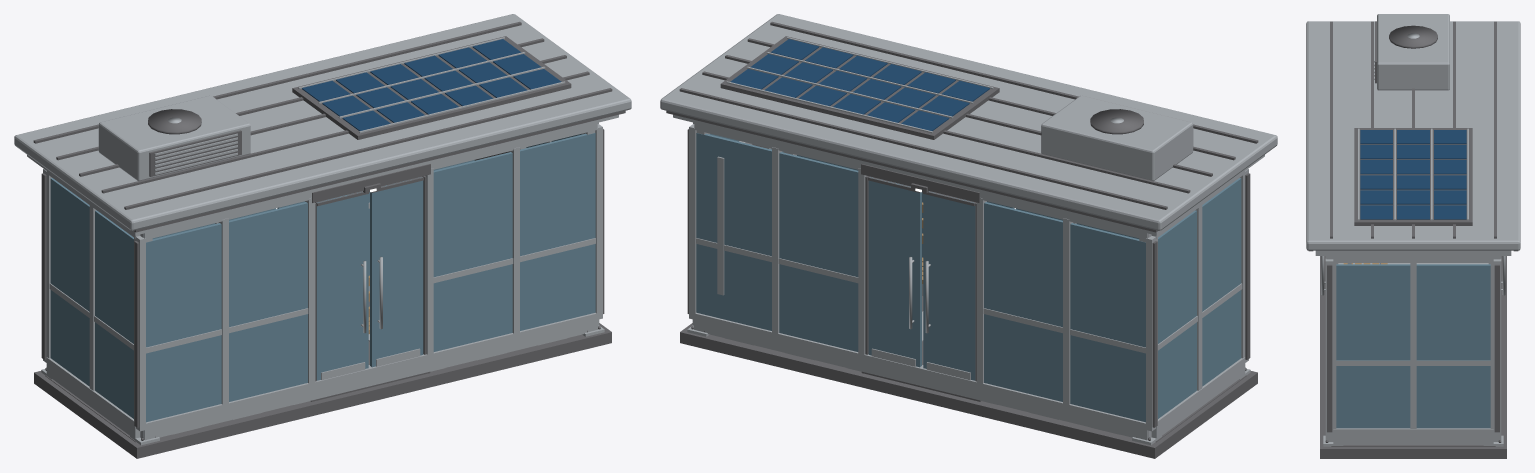
Rendered from bus_shelter.glb.
3 views of the same model, side by side, from view 1: azimuth 30°, elevation 25°; view 2: azimuth 150°, elevation 25°; view 3: azimuth 270°, elevation 25° (orthographic). The views are drawn at different scales.
Parts seen in each view (by area): view 1: Merged_PropsGlass, Merged_PropsMetal, Merged_RoofDark, Merged_SolarCell; view 2: Merged_PropsGlass, Merged_PropsMetal, Merged_RoofDark, Merged_SolarCell; view 3: Merged_PropsMetal, Merged_PropsGlass, Merged_RoofDark, Merged_SolarCell.
Part boxes in pixels (box(x1,y1,x2,y2)): Merged_PropsGlass: box(50, 133, 595, 422); Merged_PropsMetal: box(14, 14, 631, 445); Merged_RoofDark: box(33, 21, 625, 458); Merged_SolarCell: box(302, 39, 561, 131); Merged_PropsGlass: box(696, 133, 1241, 422); Merged_PropsMetal: box(660, 14, 1277, 445); Merged_RoofDark: box(666, 21, 1258, 458); Merged_SolarCell: box(730, 39, 989, 131); Merged_PropsMetal: box(1306, 14, 1520, 446); Merged_PropsGlass: box(1336, 264, 1490, 428); Merged_RoofDark: box(1309, 21, 1517, 458); Merged_SolarCell: box(1360, 130, 1466, 219).
Bounding box in the file's own units: 5.75 × 3.06 × 2.35.
